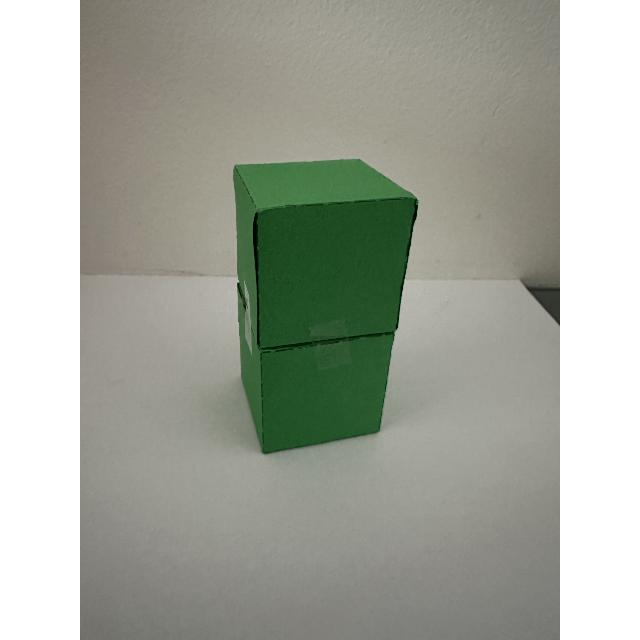green_cube: (229, 155, 427, 477)
